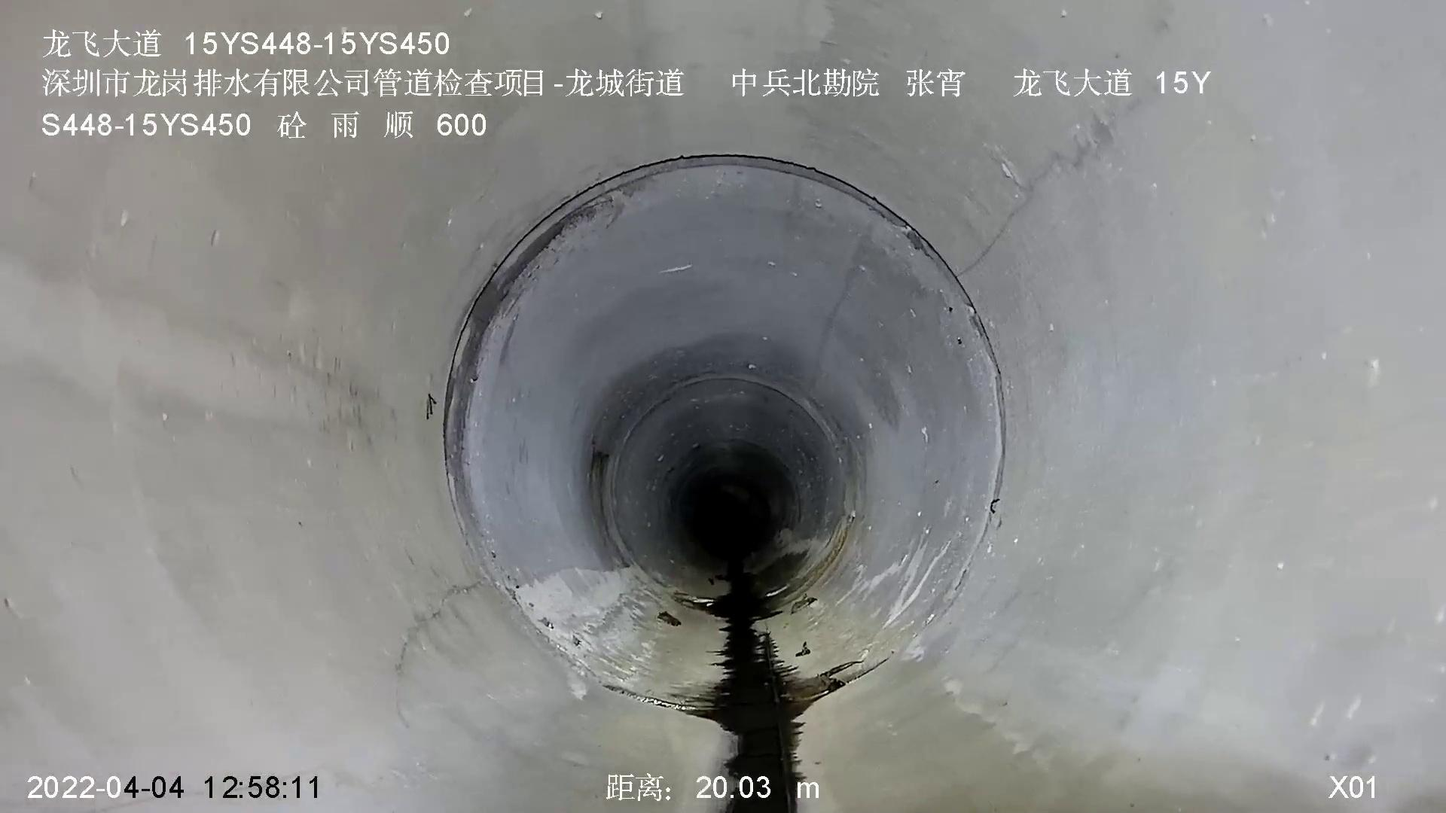CKTJ: (443, 154, 941, 546)
